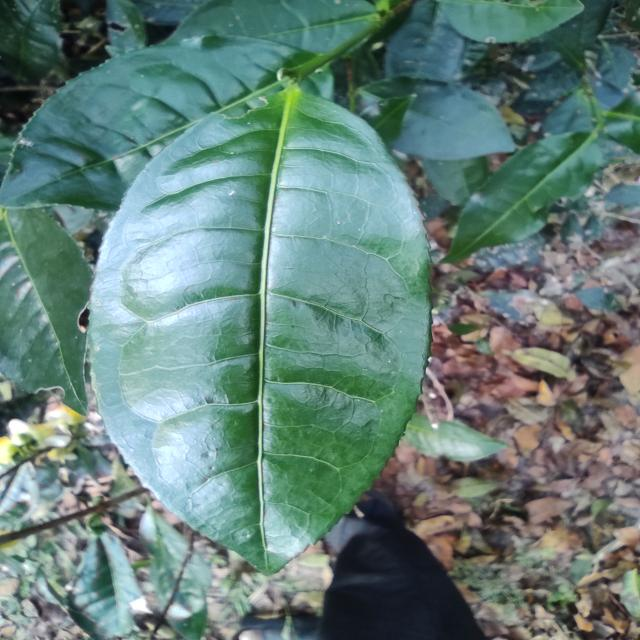Category D(7+ days, Not for Tea): (74, 86, 470, 582)
